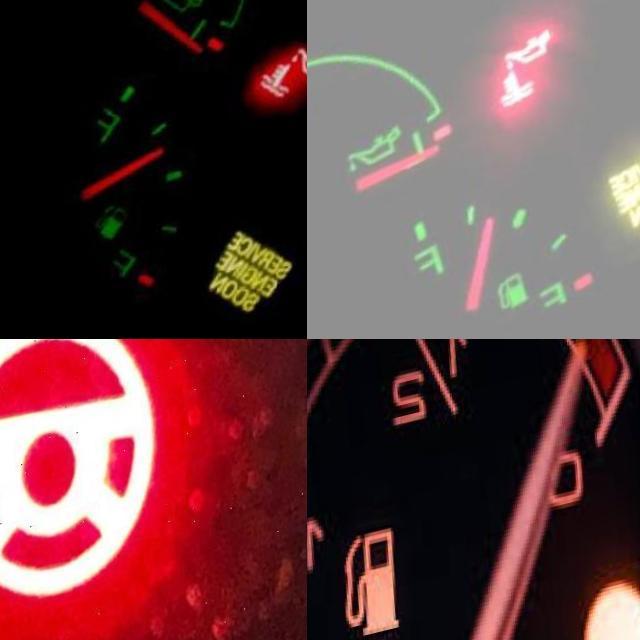Electronic Power Steering Warning: (0, 339, 161, 640)
Engine cooling system: (250, 67, 307, 130), (491, 79, 537, 130)
Low fuel level: (84, 206, 137, 263), (489, 285, 530, 334)
